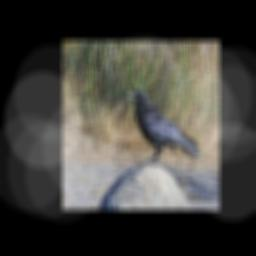Crow: (125, 87, 204, 169)
